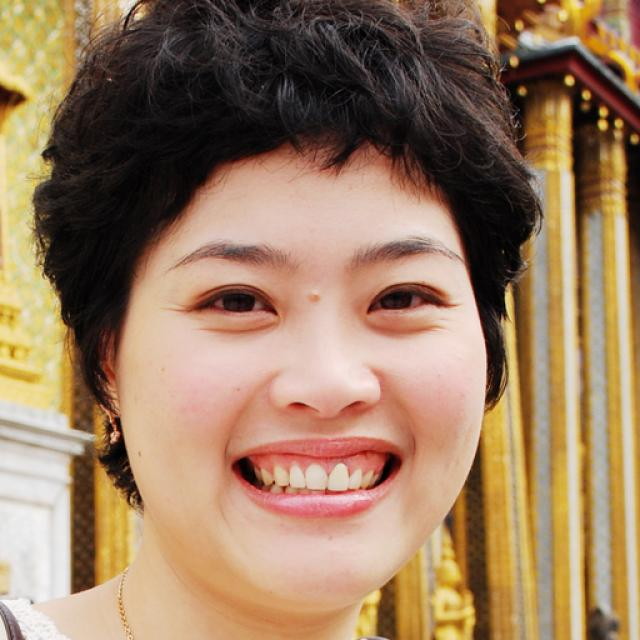Acne: (299, 278, 324, 310)
